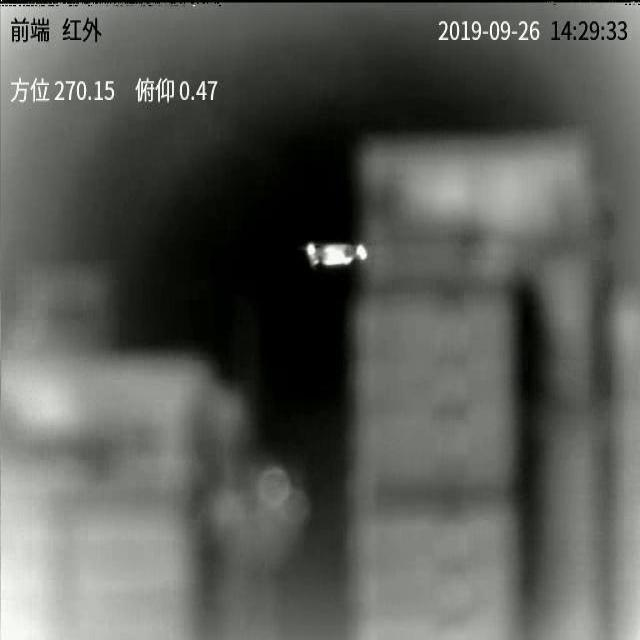drone: (305, 242, 368, 267)
